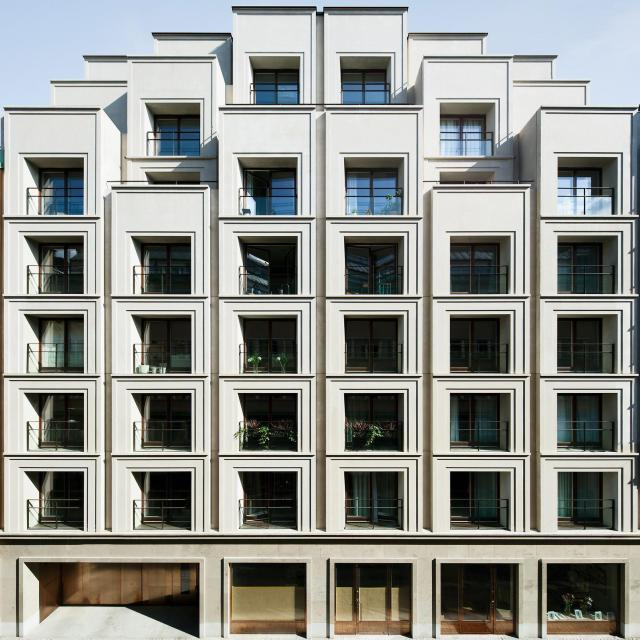door: (336, 564, 412, 636), (442, 565, 514, 636)
railing: (238, 499, 299, 530), (343, 343, 404, 374), (132, 500, 192, 531), (557, 420, 614, 452), (239, 422, 299, 452), (27, 500, 85, 531), (26, 344, 84, 375), (558, 499, 616, 530), (239, 265, 298, 295), (345, 499, 402, 530), (449, 266, 509, 295), (27, 264, 85, 294), (27, 421, 85, 451), (451, 498, 509, 528), (450, 344, 509, 373), (343, 423, 404, 451), (451, 421, 509, 450), (239, 188, 299, 216), (239, 344, 298, 372), (133, 266, 191, 294), (134, 343, 190, 372), (344, 188, 402, 215), (558, 188, 616, 215), (557, 343, 615, 370), (27, 187, 84, 214), (346, 267, 403, 294), (559, 266, 616, 293), (440, 132, 495, 156), (148, 132, 200, 157), (340, 81, 391, 104), (247, 83, 299, 105)
window: (231, 560, 308, 622), (551, 563, 621, 617), (350, 317, 401, 370), (247, 317, 297, 370), (350, 243, 402, 293), (453, 393, 503, 443), (248, 470, 300, 518), (145, 393, 194, 443), (454, 317, 502, 368), (560, 393, 608, 444), (454, 244, 503, 293), (146, 470, 195, 519), (247, 168, 299, 214), (146, 243, 194, 292), (455, 472, 505, 519), (349, 471, 400, 517), (43, 241, 88, 292), (560, 244, 606, 293), (350, 170, 401, 214), (250, 245, 298, 291), (561, 472, 607, 520), (150, 319, 194, 368), (44, 470, 88, 519), (46, 393, 89, 443), (562, 319, 602, 369), (46, 320, 87, 368), (46, 170, 87, 214), (159, 114, 203, 153), (562, 171, 602, 213), (444, 115, 485, 155), (249, 393, 300, 422), (349, 392, 401, 420), (346, 71, 389, 103), (258, 71, 302, 102)
